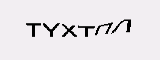Ж: (103, 12, 132, 38)
К: (83, 12, 106, 37)
Р: (62, 8, 81, 32), (21, 10, 40, 32)
Т: (39, 8, 61, 29)
